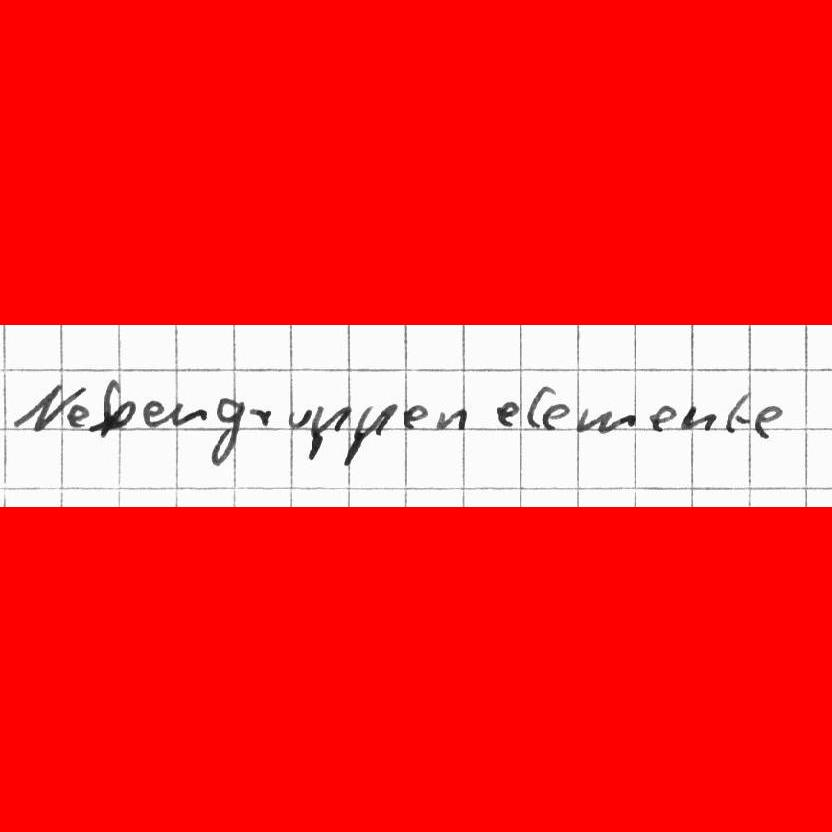Char: (344, 400, 398, 467), (12, 381, 73, 432), (207, 396, 246, 468), (307, 401, 352, 463), (96, 375, 137, 433), (575, 405, 638, 435), (723, 390, 754, 433), (432, 405, 472, 434), (680, 404, 718, 434), (524, 384, 548, 430), (752, 403, 782, 439), (169, 402, 206, 428), (541, 402, 570, 432), (646, 403, 676, 432), (141, 396, 165, 431), (494, 398, 522, 428), (400, 403, 428, 430), (248, 404, 276, 429), (284, 406, 312, 430), (66, 403, 89, 427)
